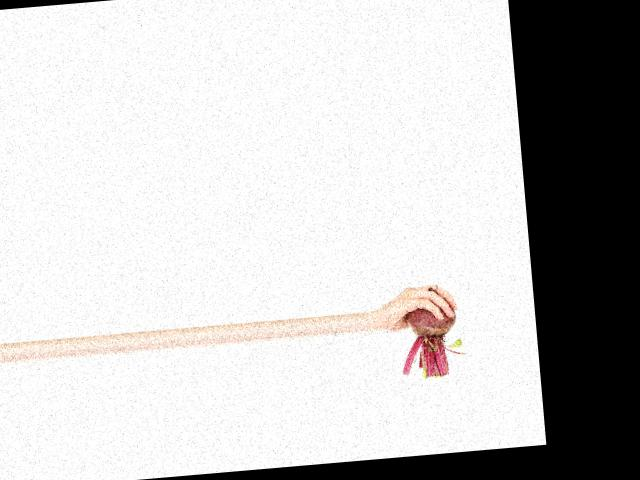beet: (395, 284, 467, 379)
